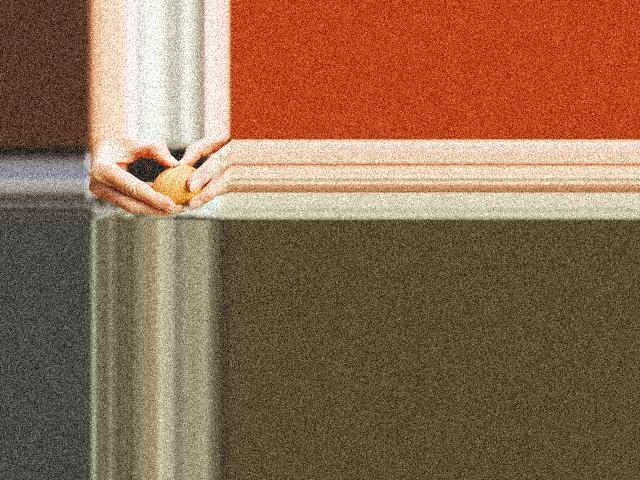egg: (153, 164, 202, 205)
